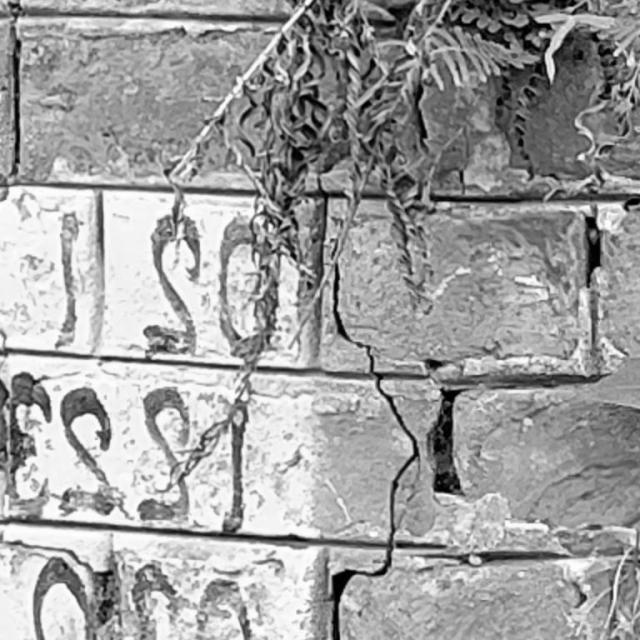crack: (330, 237, 420, 640)
